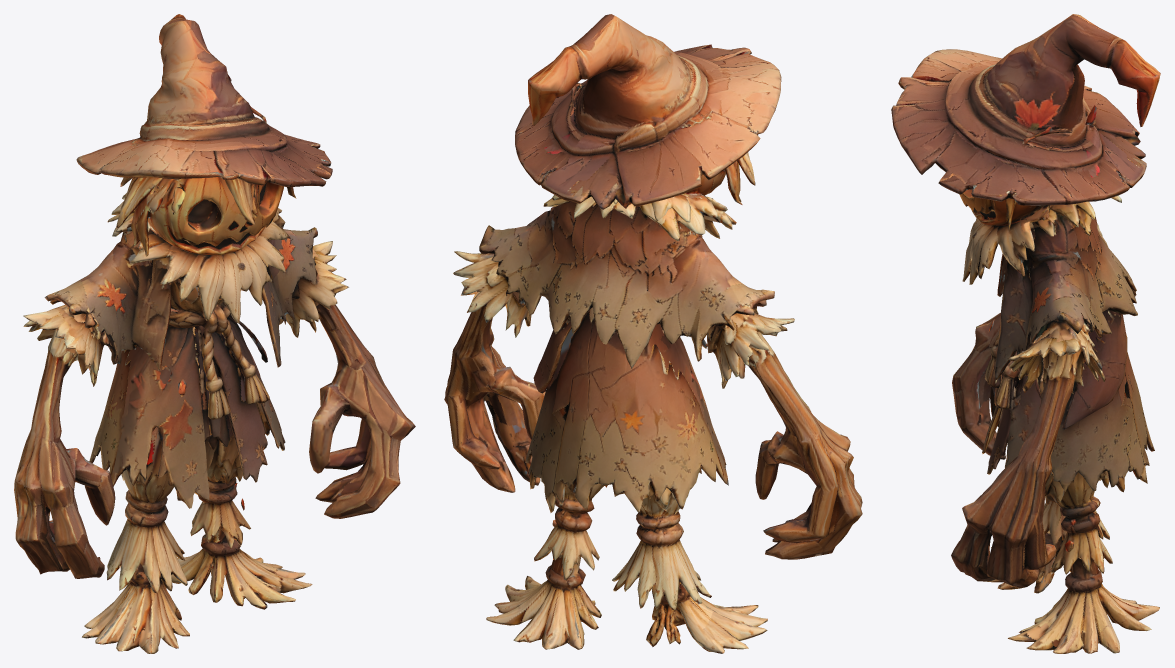
3 renders of one model, left to right at view 1: azimuth 30°, elevation 25°; view 2: azimuth 150°, elevation 25°; view 3: azimuth 270°, elevation 25°, orthographic. The views are drawn at different scales.
Visible parts, largest first — view 1: surface_7; view 2: surface_7; view 3: surface_7.
Part boxes in pixels (box(x1,y1,x2,y2)): surface_7: box(14, 14, 415, 653); surface_7: box(444, 14, 862, 653); surface_7: box(891, 14, 1160, 653).
Bounding box in the file's own units: 0.7049 × 1 × 0.4126.
Materials: 1 (1 with a texture image).
